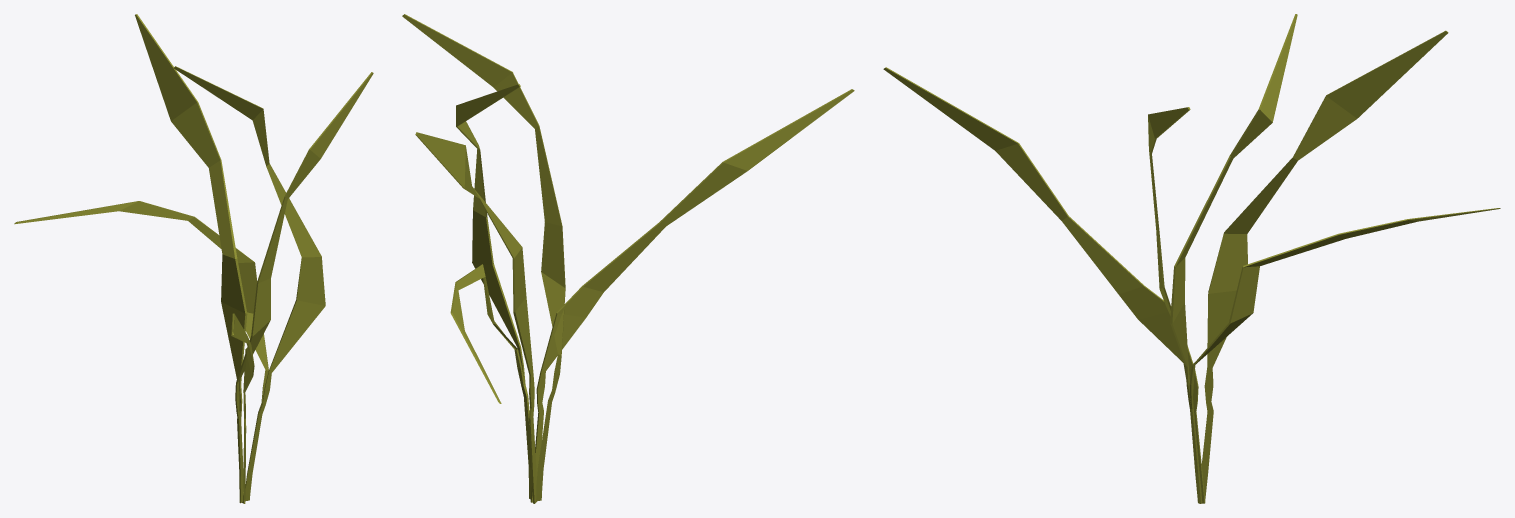
3 renders of one model, left to right at view 1: azimuth 30°, elevation 25°; view 2: azimuth 150°, elevation 25°; view 3: azimuth 270°, elevation 25°, orthographic. The views are drawn at different scales.
Visible parts, largest first — view 1: gazon 3; view 2: gazon 3; view 3: gazon 3.
Part boxes in pixels (box(x1,y1,x2,y2)): gazon 3: box(14, 14, 373, 503); gazon 3: box(402, 14, 854, 503); gazon 3: box(883, 14, 1500, 503).
Bounding box in the file's own units: 56.86 × 81.8 × 96.59.
